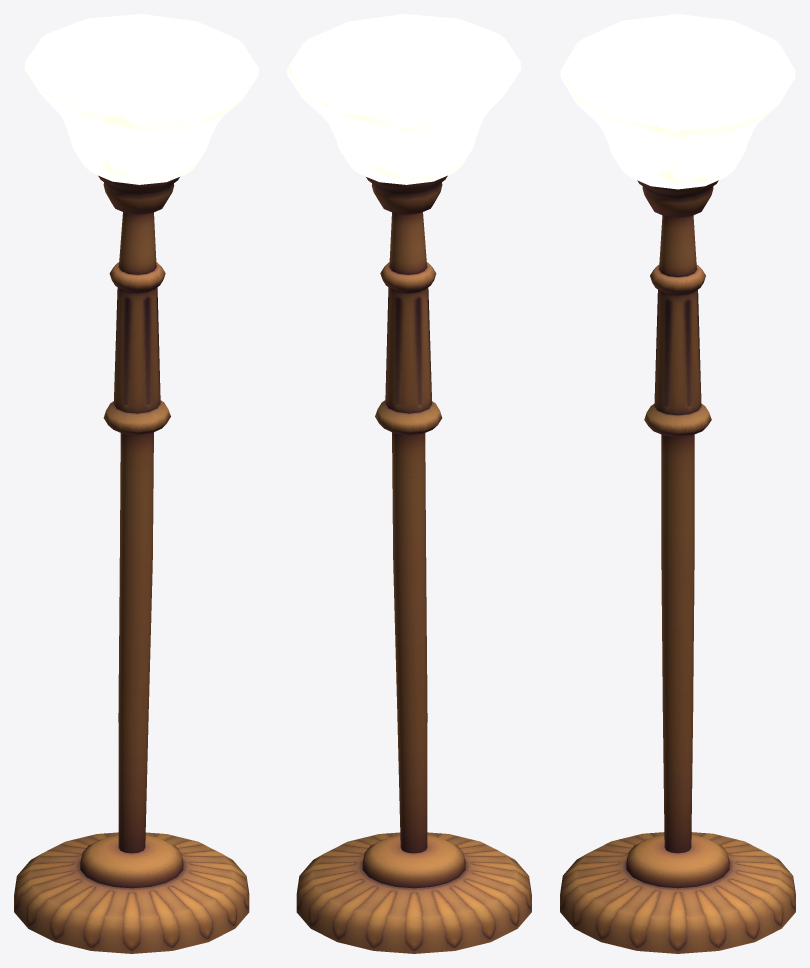
Rendered from OfficeFloorLight01.fbx.
The picture shows the model from 3 angles, left to right: view 1: azimuth 30°, elevation 25°; view 2: azimuth 150°, elevation 25°; view 3: azimuth 270°, elevation 25°; orthographic projection.
Parts seen in each view (by area): view 1: OfficeFloorLight01On; view 2: OfficeFloorLight01On; view 3: OfficeFloorLight01On.
Part boxes in pixels (x1=…): OfficeFloorLight01On: x1=14, y1=14, x2=258, y2=953; OfficeFloorLight01On: x1=287, y1=14, x2=531, y2=953; OfficeFloorLight01On: x1=560, y1=14, x2=795, y2=953.
Size of the model in its own units: 0.6102 by 2.29 by 0.5786.
Materials: 1 (1 with a texture image).
